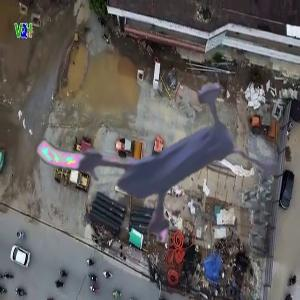drone: (62, 46, 272, 256)
